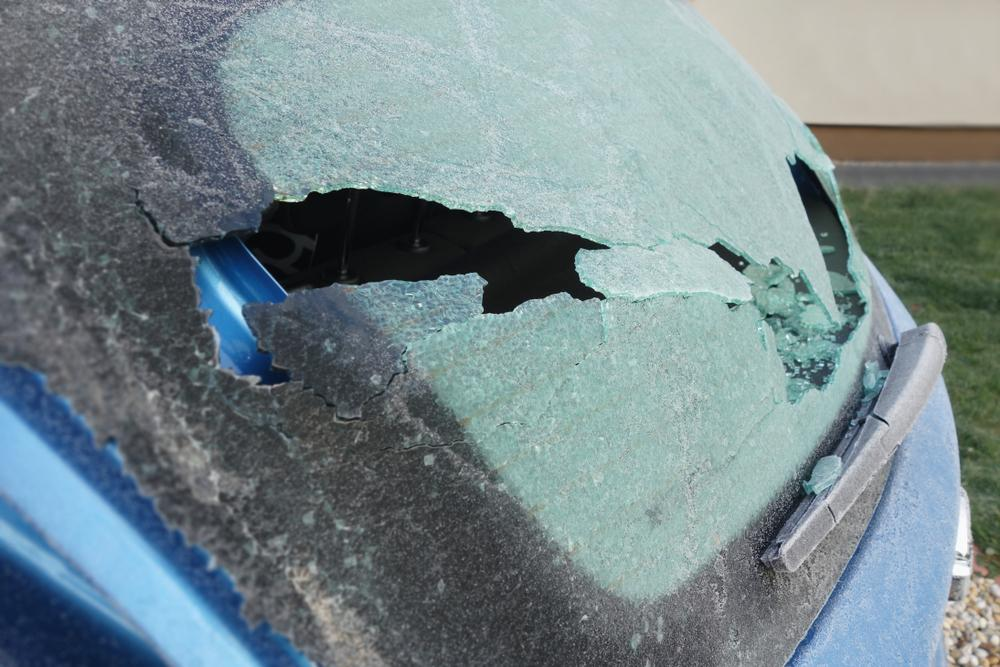glass shatter: (0, 0, 903, 667)
